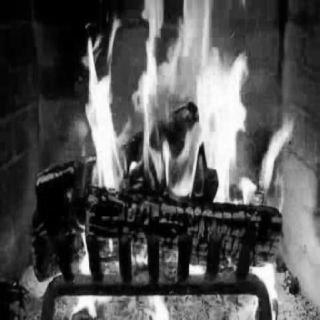Fire: (16, 5, 316, 311)
